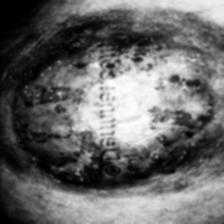Non-Cancerous Skin Condition: (5, 0, 100, 200), (121, 31, 217, 196)
